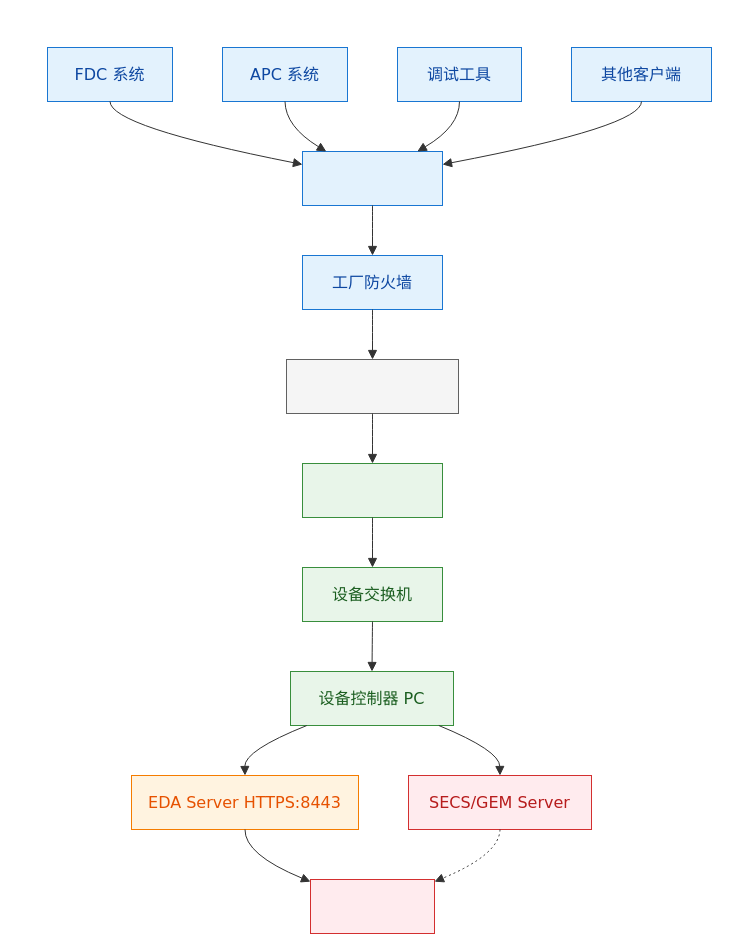
Some shapes in this 729 by 951 pixel diagram are drawn without their labels. Each missing label, with the centre of its shape:
工厂交换机: point (372, 178)
独立千兆以太网: point (372, 386)
设备硬件: point (372, 906)
设备防火墙: point (372, 490)
